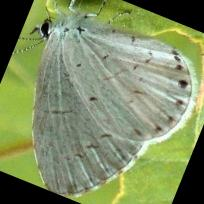butterfly: (31, 17, 198, 197)
